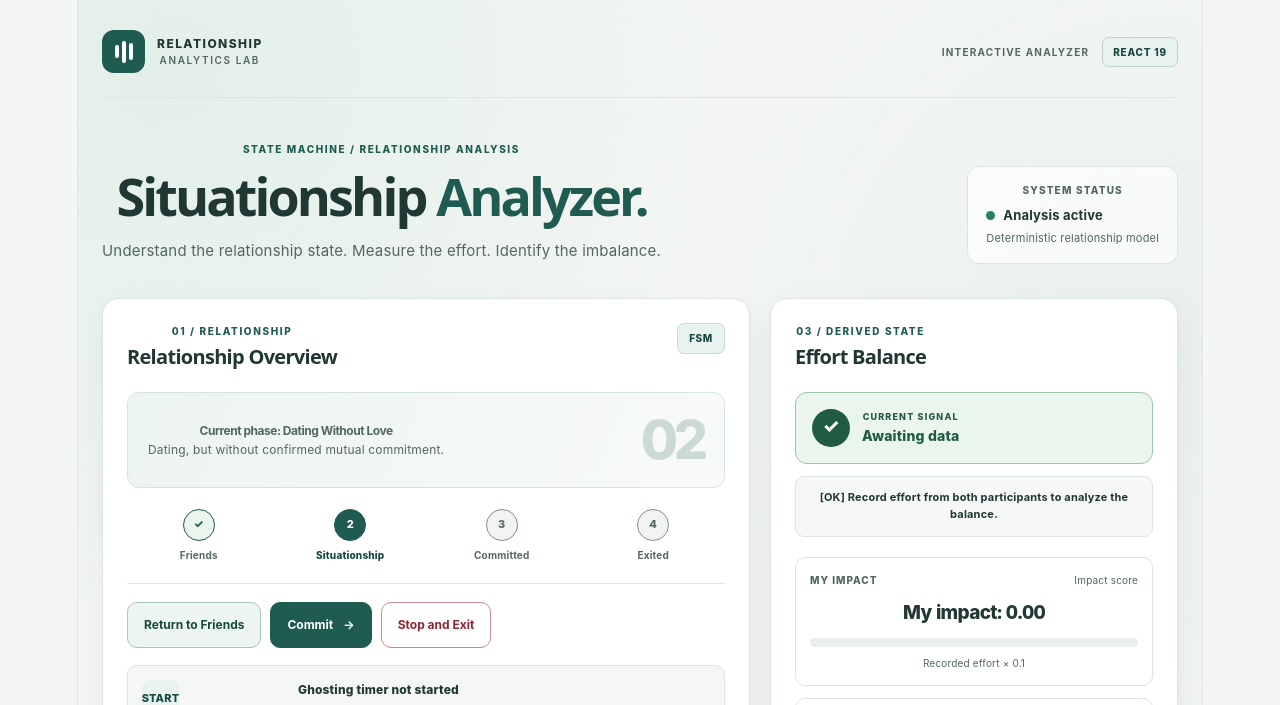
Test: SituationshipAnalyzer › transitions to GHOSTED_EXIT when Stop and Exit is clicked
Click the button "Stop and Exit".
click(436, 625)  # box [381,602,491,648]
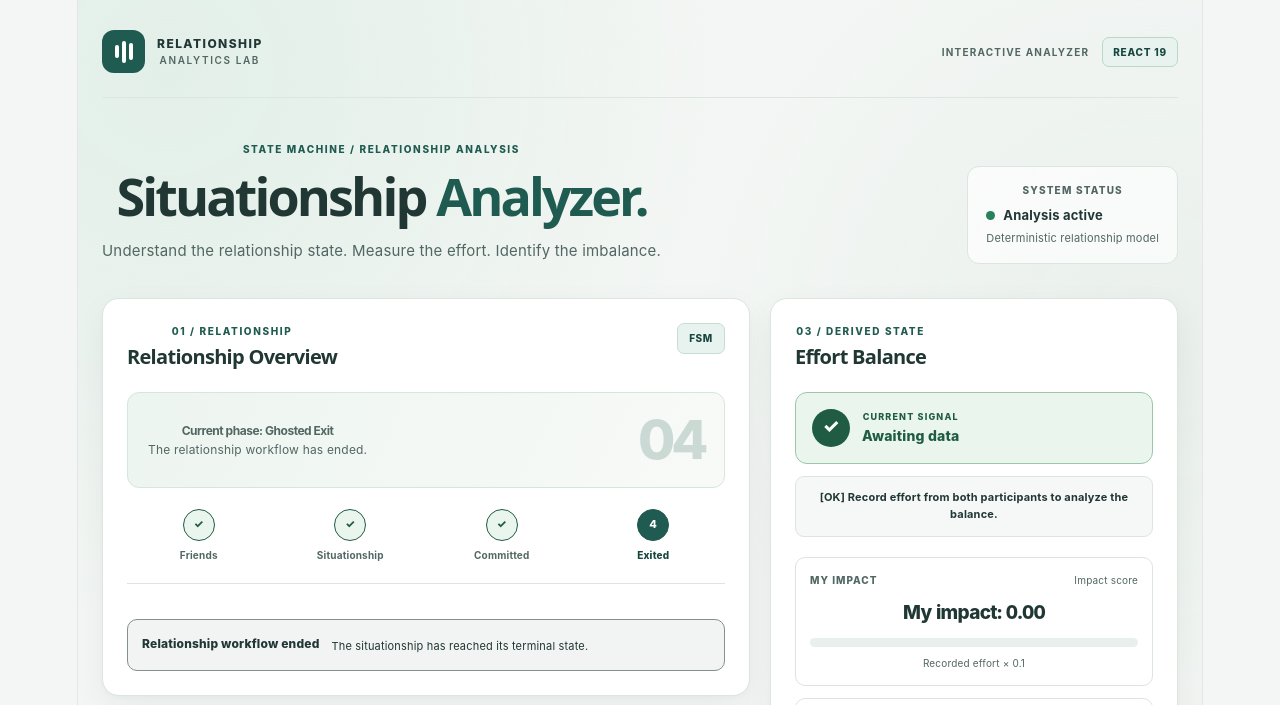
Expected: the text "Current phase: Ghosted Exit" is shown, [182,422,334,438]
